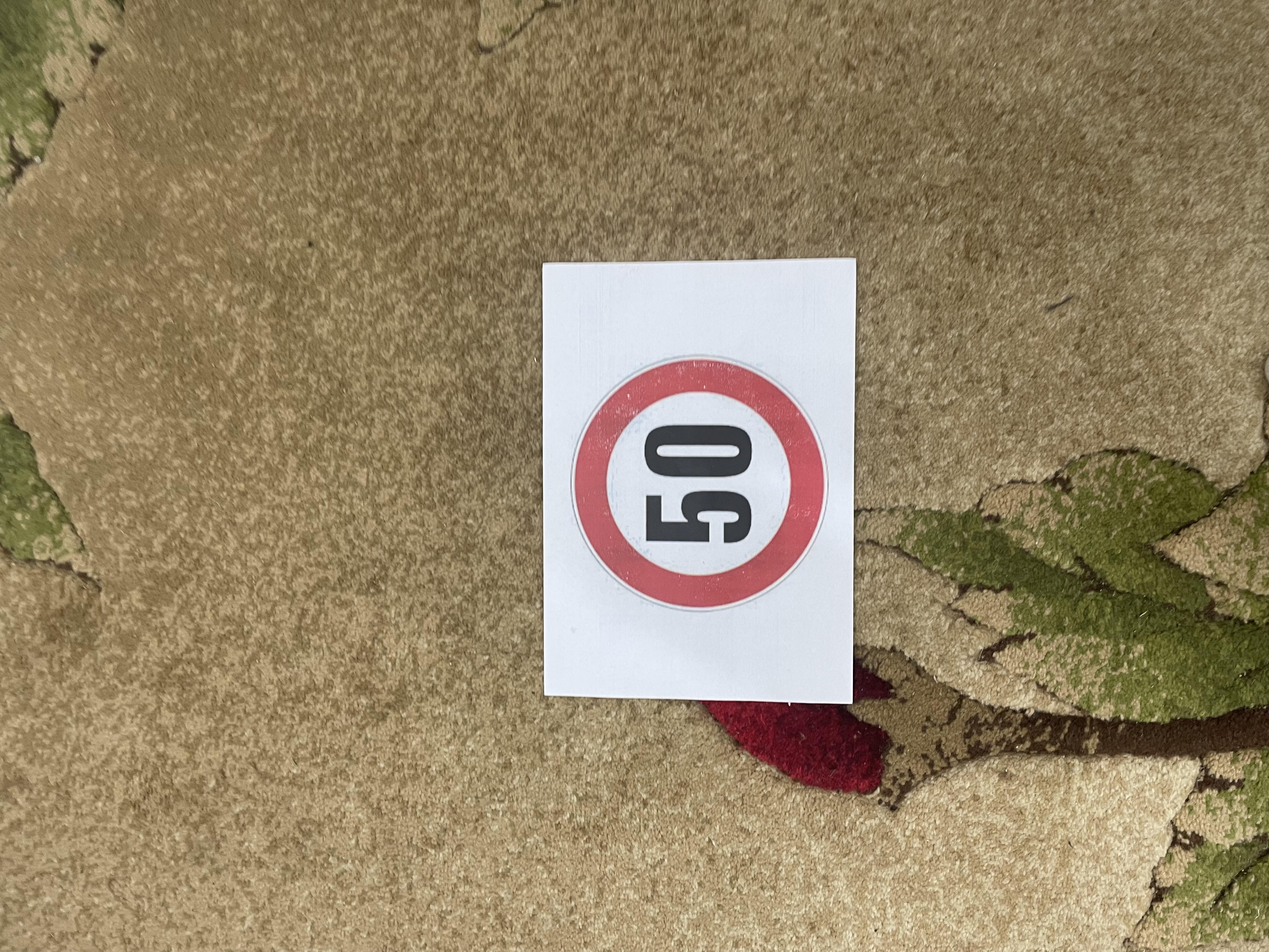50-Speed: (449, 422, 805, 621)
